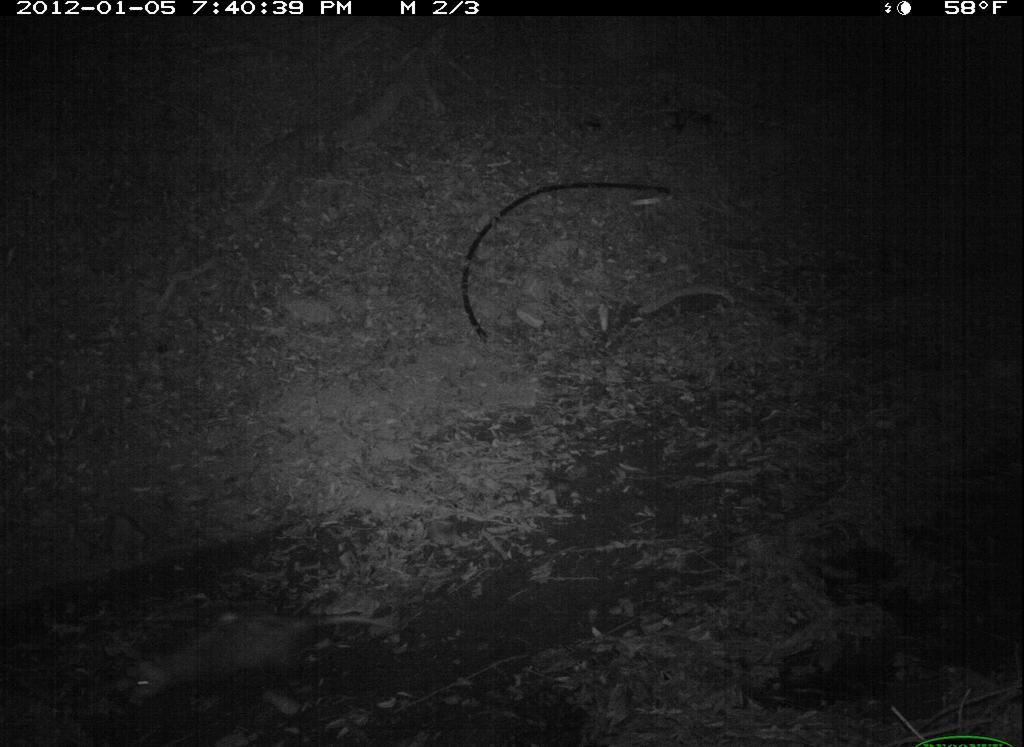opossum: (115, 598, 374, 707)
